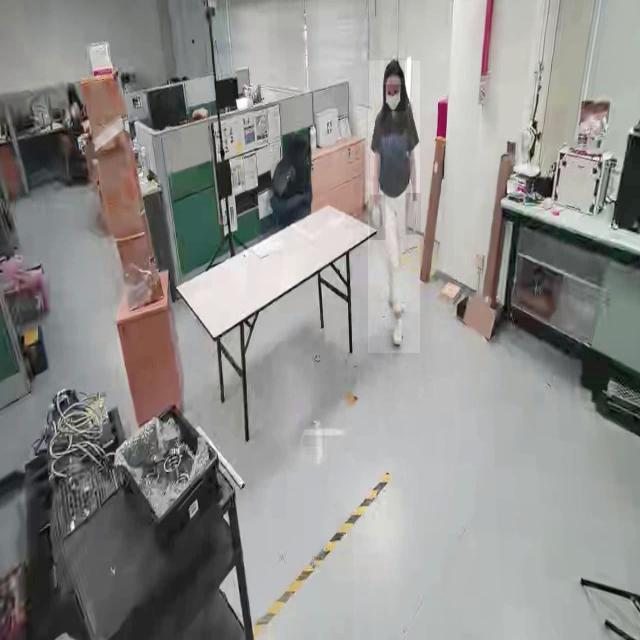face_mask: (384, 85, 406, 111)
hand_glove: (369, 195, 385, 241), (405, 193, 421, 235)
head_nohelmet: (383, 58, 405, 79)
person: (368, 60, 420, 354)
shoes: (389, 309, 408, 351)
